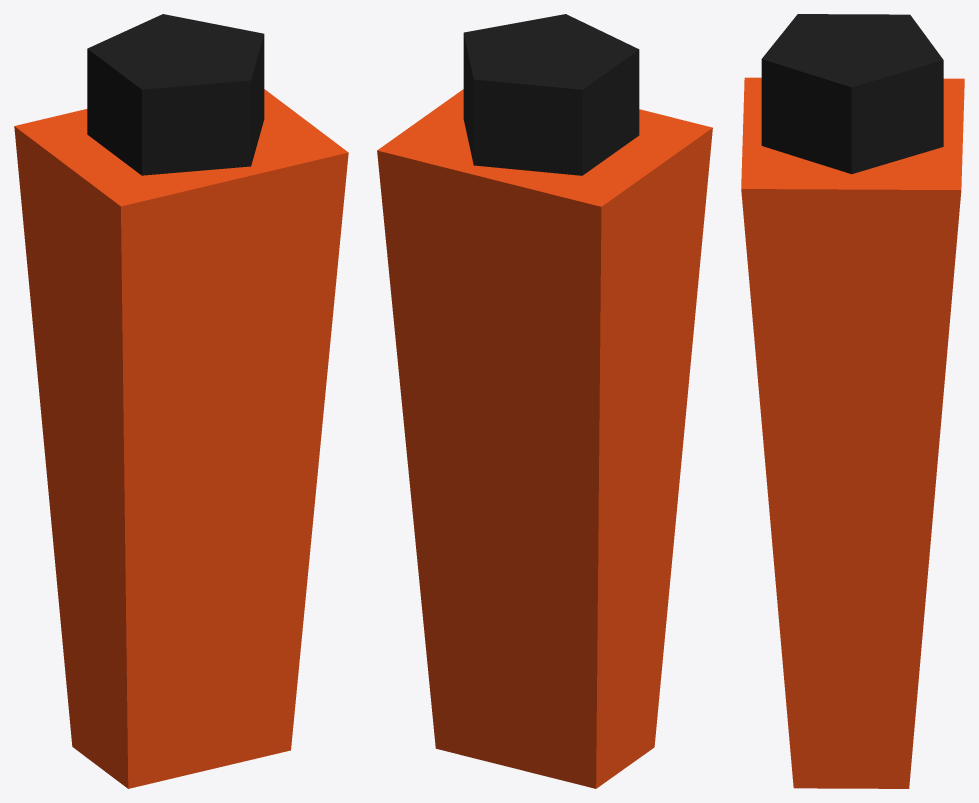
Rendered from prop_064.glb.
The picture shows the model from 3 angles, left to right: view 1: azimuth 30°, elevation 25°; view 2: azimuth 150°, elevation 25°; view 3: azimuth 270°, elevation 25°; orthographic projection.
Parts seen in each view (by area): view 1: prop_064; view 2: prop_064; view 3: prop_064.
Boxes of the visible parts, <box> form: prop_064: <box>14,14,348,788</box>; prop_064: <box>377,14,712,788</box>; prop_064: <box>741,14,964,788</box>.
Size of the model in its own units: 0.0671 by 0.1952 by 0.0563.
1 material, 1 textured.
